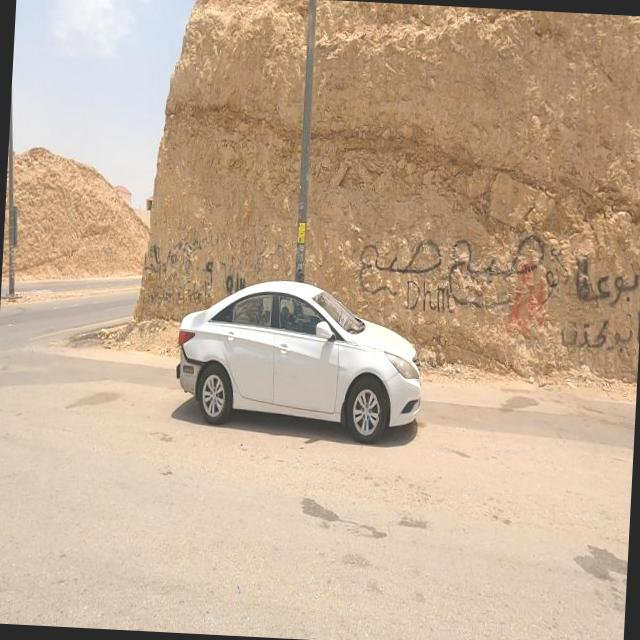debris: (256, 134, 636, 422), (71, 177, 315, 350), (510, 184, 640, 449)
